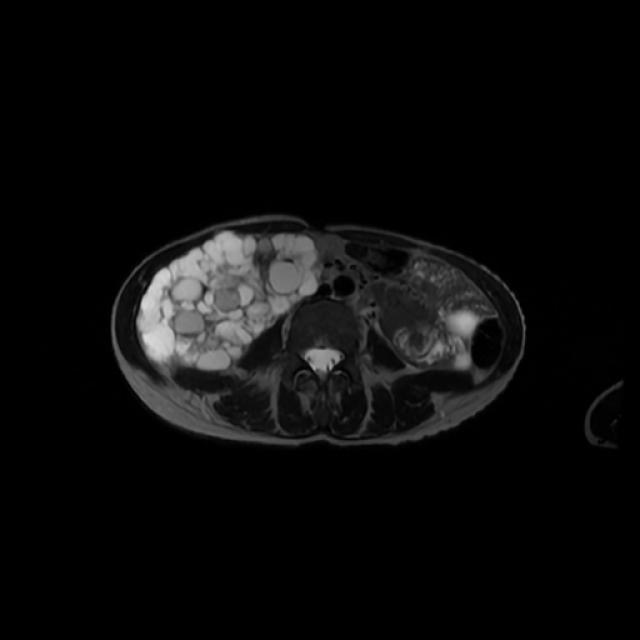sag: (135, 230, 325, 380)
sol: (443, 309, 481, 369)
